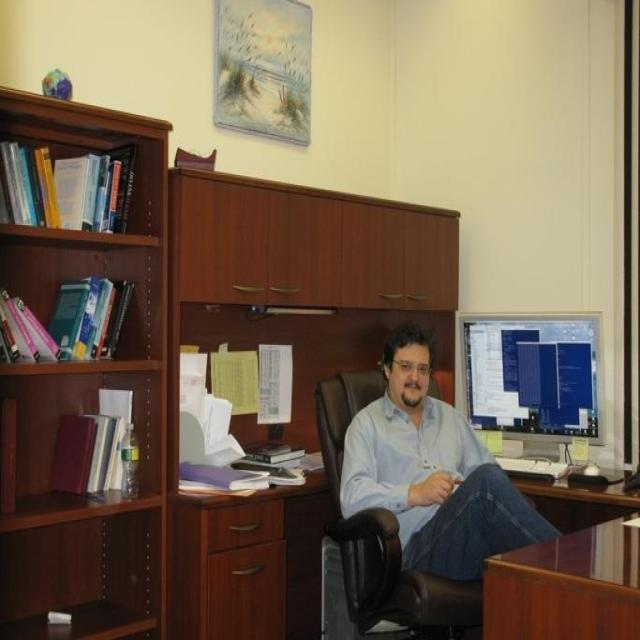idoso sentado: (309, 326, 611, 600)
